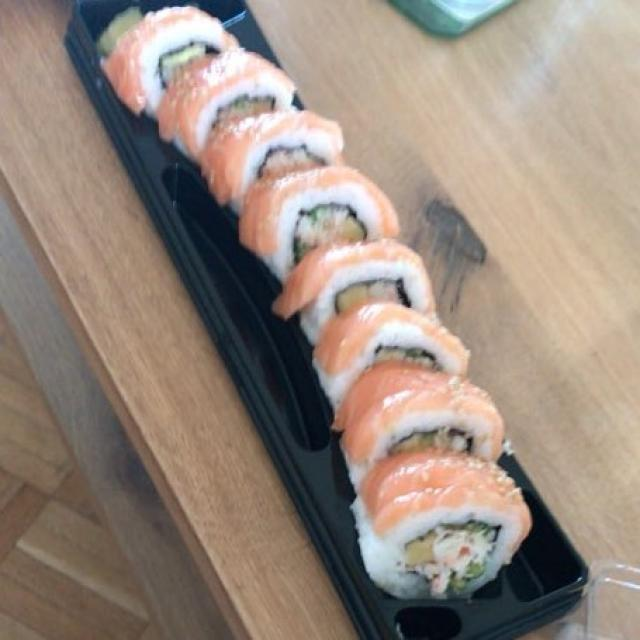sushi: (84, 0, 542, 592)
